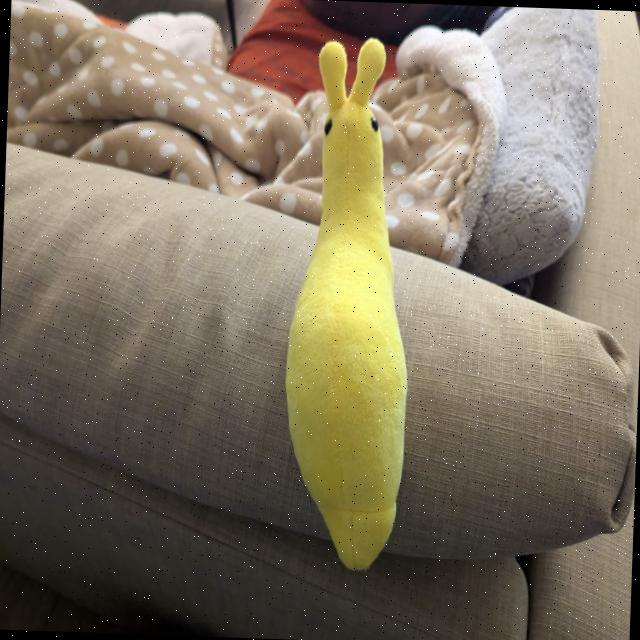banana-slug-toy: (274, 31, 426, 582)
